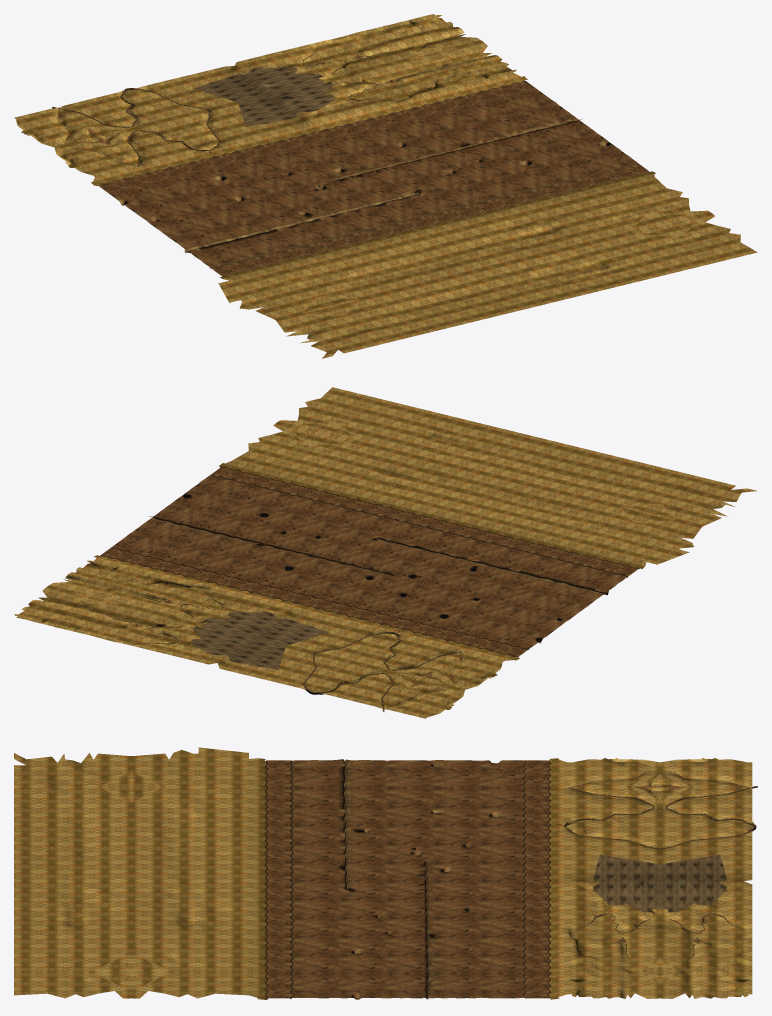
Rendered from thelandscape2.gltf.
3 renders of one model, top to bottom at view 1: azimuth 30°, elevation 25°; view 2: azimuth 150°, elevation 25°; view 3: azimuth 270°, elevation 25°, orthographic. The views are drawn at different scales.
Parts seen in each view (by area): view 1: thelandscape2; view 2: thelandscape2; view 3: thelandscape2.
Boxes of the visible parts, bbox=[...] form: thelandscape2: bbox=[14, 14, 757, 358]; thelandscape2: bbox=[14, 387, 756, 718]; thelandscape2: bbox=[14, 747, 757, 999].
Bounding box in the file's own units: 5728 × 76.36 × 7109.
Materials: 7 (7 with a texture image).
